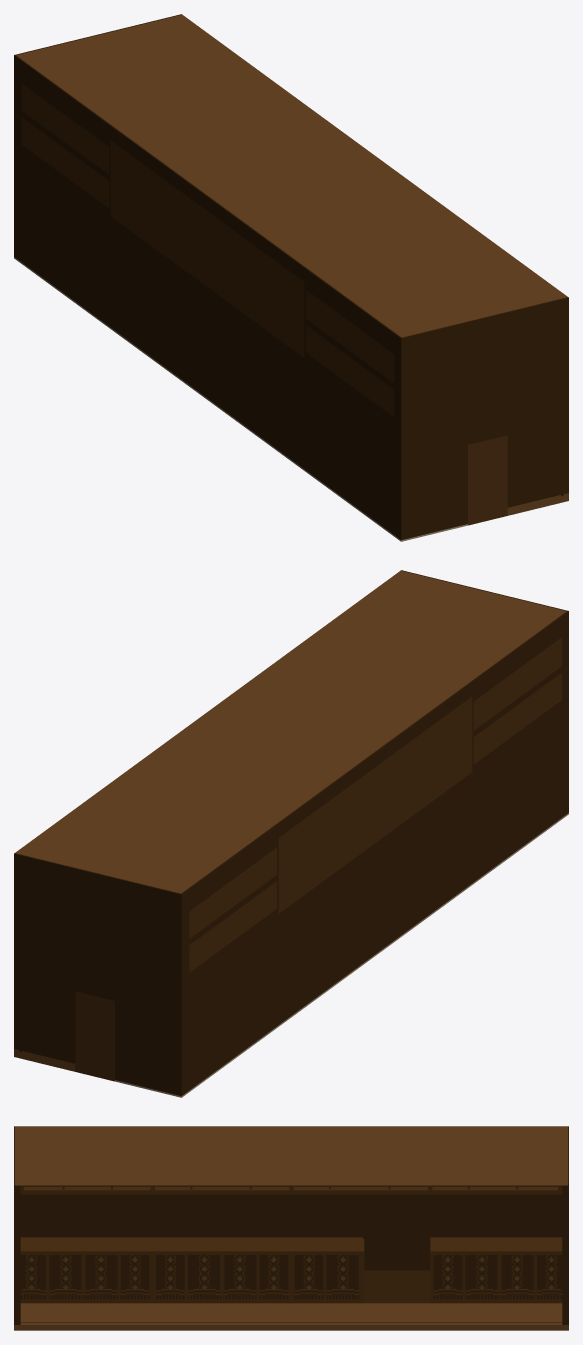
The model's file is Bar.fbx.
3 views of the same model, one above another, from view 1: azimuth 30°, elevation 25°; view 2: azimuth 150°, elevation 25°; view 3: azimuth 270°, elevation 25° (orthographic). The views are drawn at different scales.
Parts seen in each view (by area): view 1: b2; view 2: b2; view 3: b2.
Boxes of the visible parts, x1=… form: b2: x1=14, y1=14, x2=568, y2=541; b2: x1=14, y1=570, x2=568, y2=1097; b2: x1=14, y1=1126, x2=568, y2=1330.
Bounding box in the file's own units: 189 × 219 × 756.
